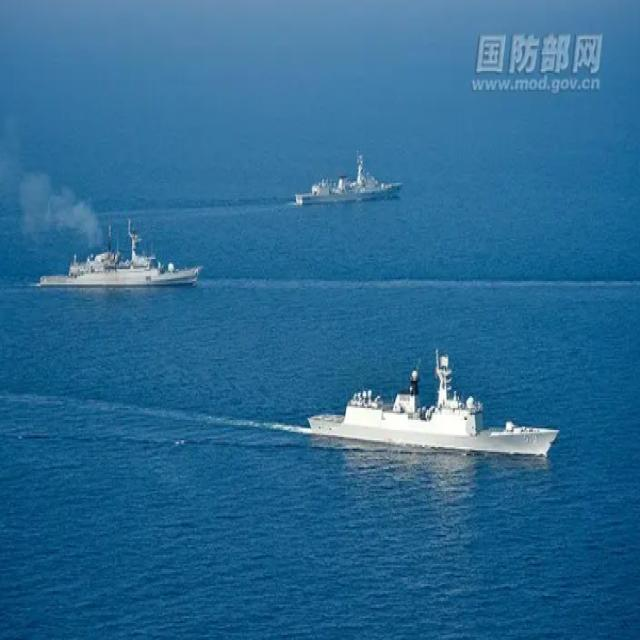navalvessels: (305, 346, 565, 473), (38, 204, 196, 302), (292, 153, 396, 217)
